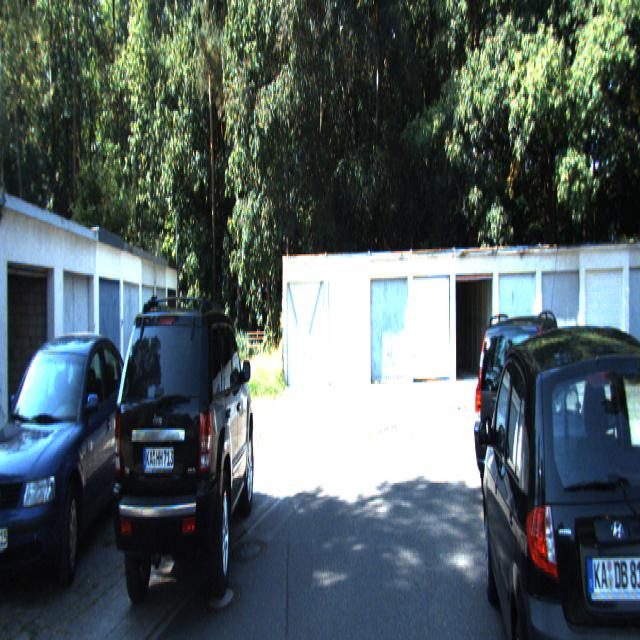Car: (478, 317, 640, 638), (113, 300, 255, 625), (0, 335, 140, 616), (473, 304, 579, 534)
